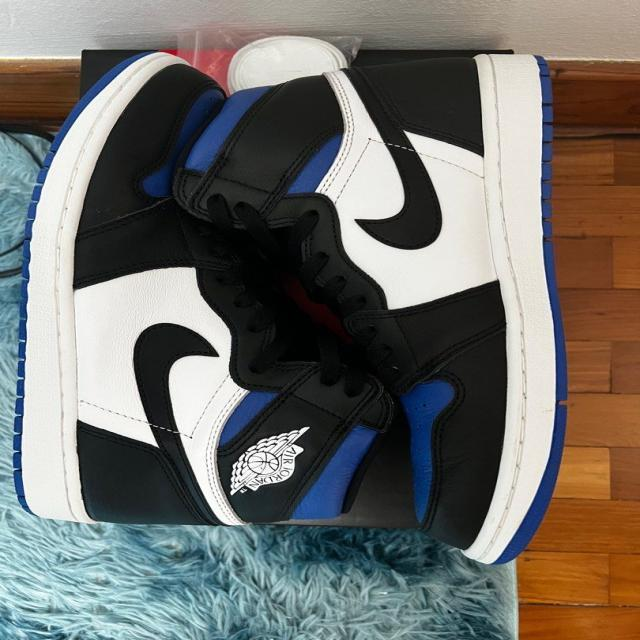nike original jordan 1: (172, 52, 569, 575), (16, 51, 402, 527)
